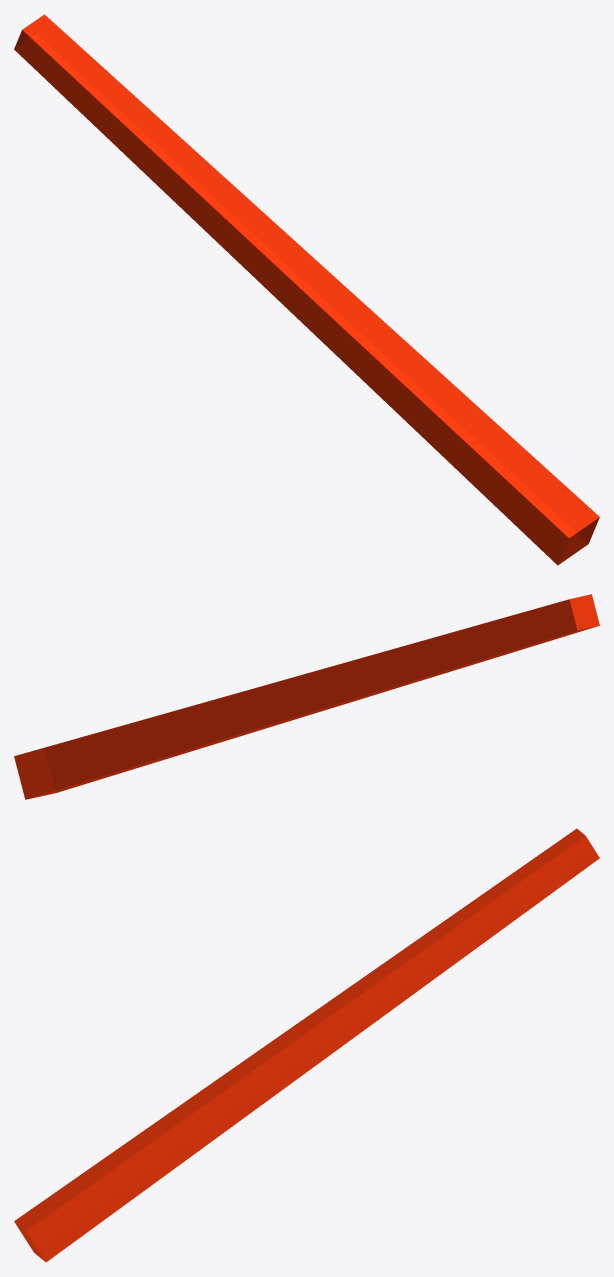
The model's file is Event_421556567_EBrechit_11.fbx.
The picture shows the model from 3 angles, top to bottom: view 1: azimuth 30°, elevation 25°; view 2: azimuth 210°, elevation 25°; view 3: azimuth 270°, elevation 25°; orthographic projection. The views are drawn at different scales.
Parts seen in each view (by area): view 1: Model; view 2: Model; view 3: Model.
Part boxes in pixels (<box>): Model: <box>14,14,599,565</box>; Model: <box>14,594,599,799</box>; Model: <box>14,828,599,1262</box>.
Bounding box in the file's own units: 0.5258 × 0.7015 × 1.13.
